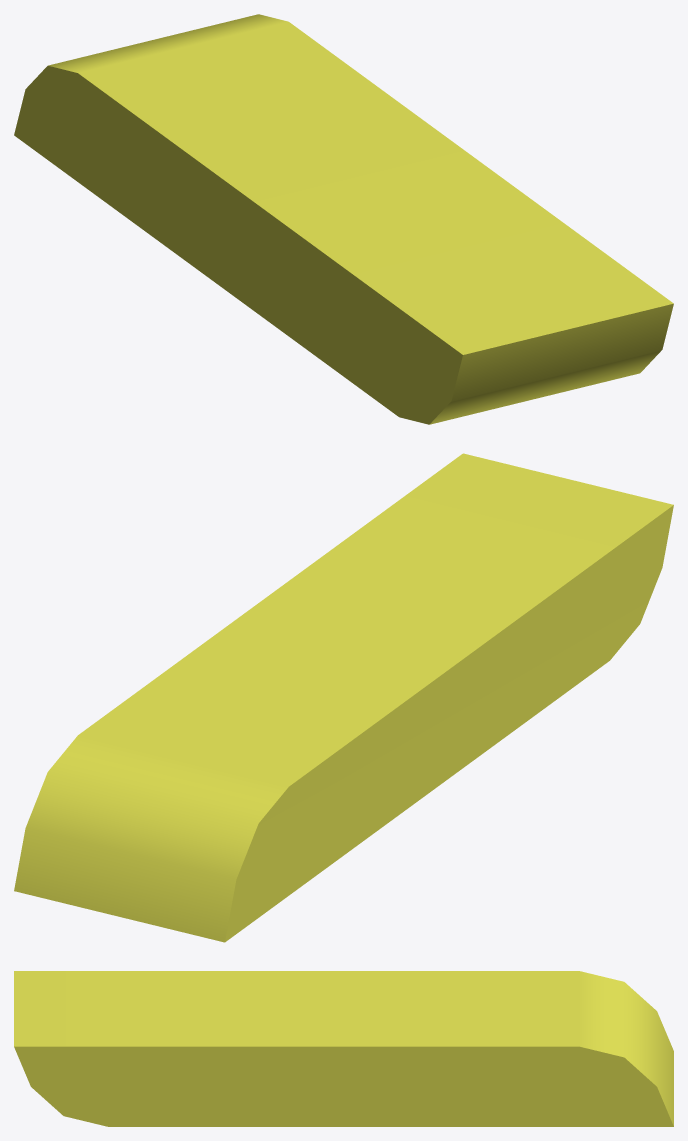
File: Goma 2.fbx
3 views of the same model, one above another, from view 1: azimuth 30°, elevation 25°; view 2: azimuth 150°, elevation 25°; view 3: azimuth 270°, elevation 25° (orthographic). The views are drawn at different scales.
Visible parts, largest first — view 1: Goma_2; view 2: Goma_2; view 3: Goma_2.
Boxes of the visible parts, x1=… form: Goma_2: x1=14, y1=14, x2=673, y2=424; Goma_2: x1=14, y1=453, x2=673, y2=942; Goma_2: x1=14, y1=971, x2=673, y2=1126.
Bounding box in the file's own units: 0.0162 × 0.008 × 0.0597.
